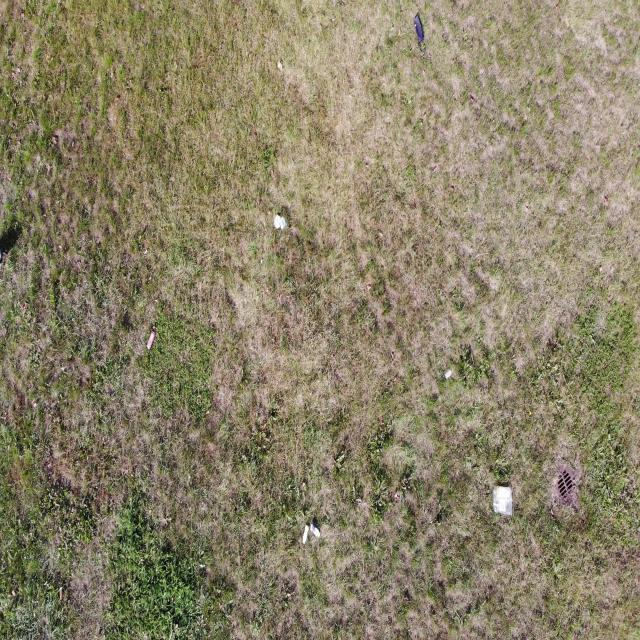rubbish: (493, 486, 514, 517), (274, 213, 288, 229), (146, 330, 156, 350), (309, 524, 320, 538), (302, 524, 309, 544), (444, 368, 453, 379)
